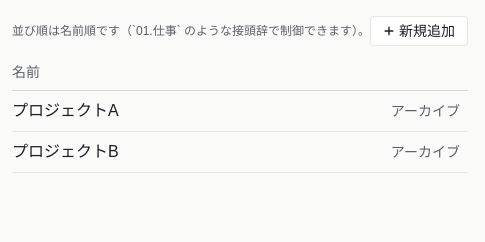
Scenario: ProjectsTable（画面定義書03 §3.3: 名前とアーカイブだけの単純なCRUD） › インライン編集（画面定義書03 §4「編集方式」/ 00_共通 §2.3） › 次の編集を始めるとエラー表示を消す
Click the button "プロジェクトA".
click(65, 111)  # box [12,99,119,123]
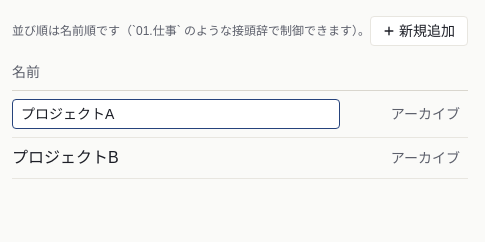
Clear the field showing "プロジェクトA" at (176, 114), box [12,99,340,129]
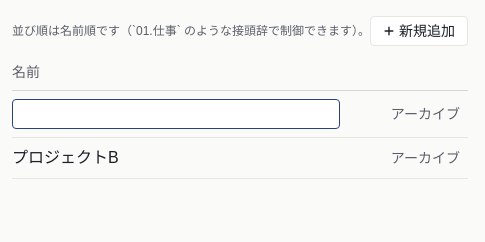
Leave the field showing "プロジェクトA", box [12,99,340,129]
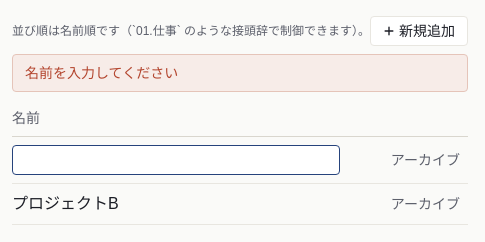
expect the text "名前を入力してください" is shown: met, box [12,54,468,92]
Click the button "プロジェクトB".
click(65, 204)  # box [12,192,119,216]
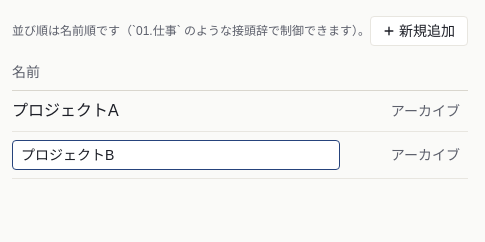
expect the text "名前を入力してください" is gone: met
